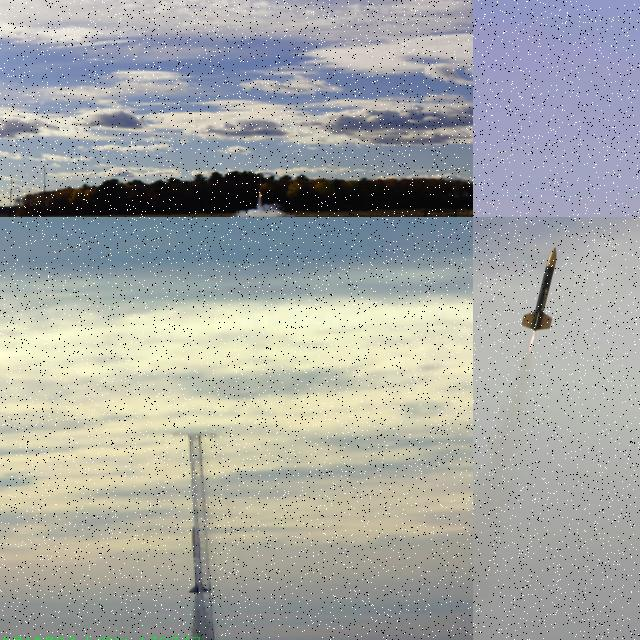Rocket: (520, 246, 558, 331), (187, 525, 208, 594), (257, 173, 264, 193)
